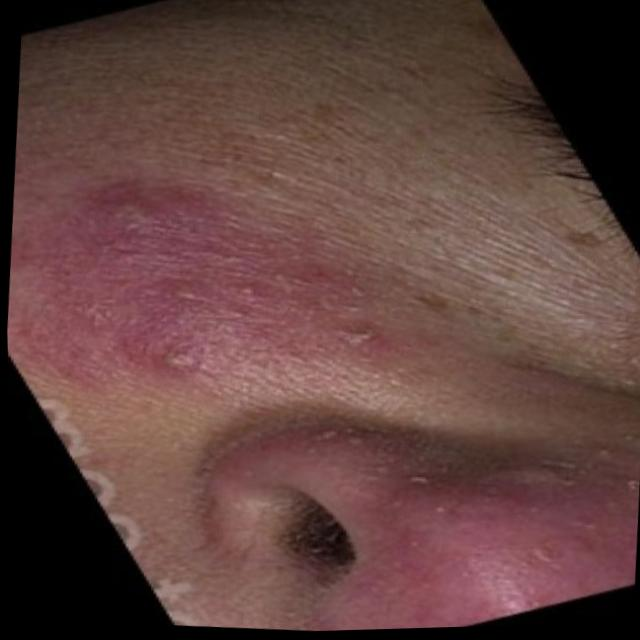Rosacea: (31, 167, 431, 421), (367, 455, 640, 629)
